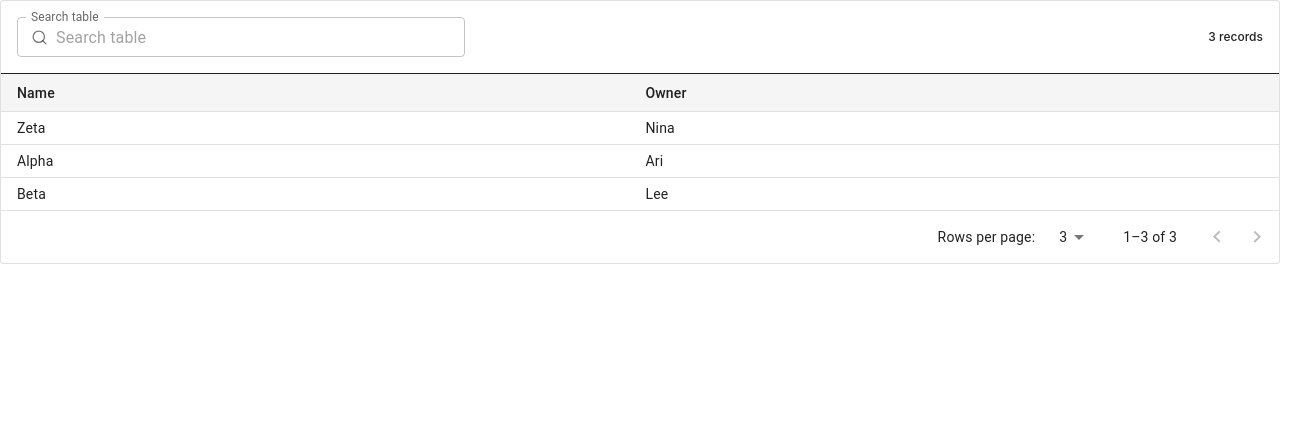
Scenario: DataTable › keeps a custom initial page size available in the pagination control
Click the dropdown named "Rows per page:" at (1063, 237), box x1=1059 y1=229 x2=1067 y2=245
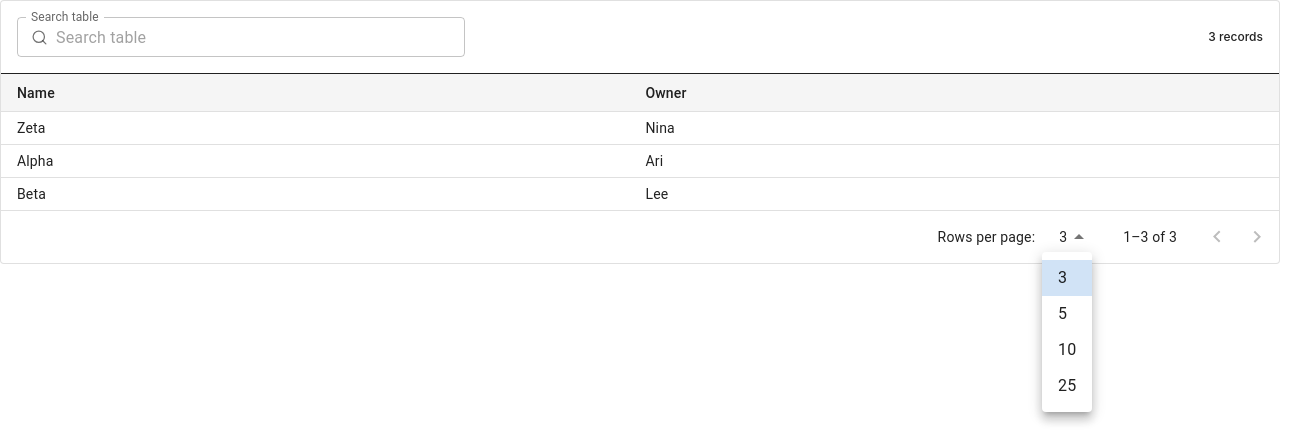
Result: the option "3" is shown at x1=1042 y1=260 x2=1092 y2=296
